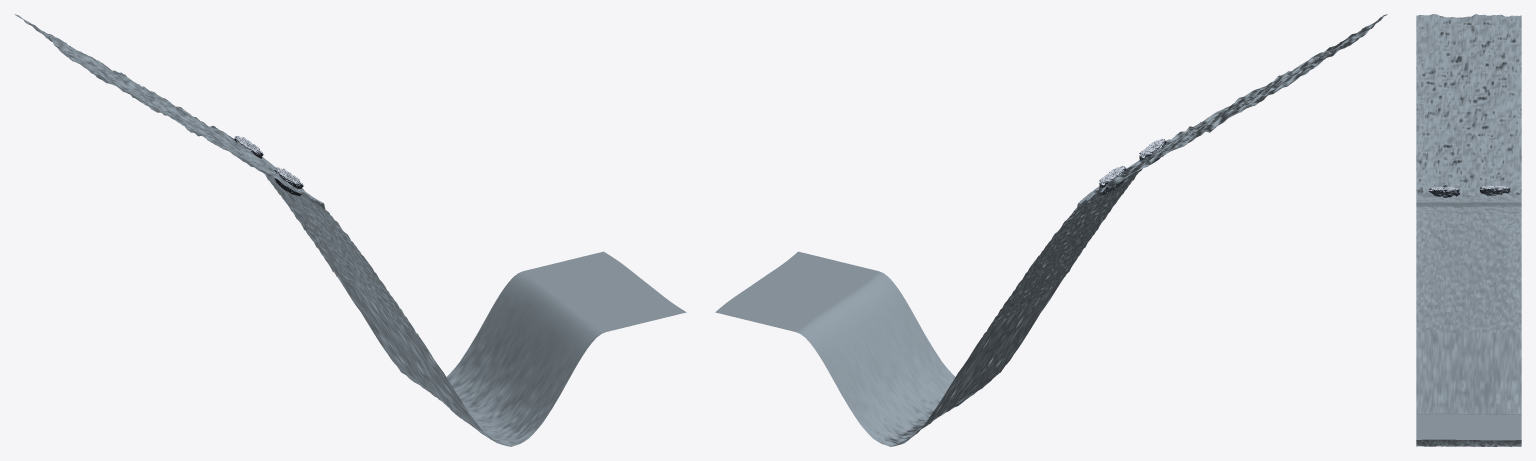
Rendered from walk-tile.glb.
3 renders of one model, left to right at view 1: azimuth 30°, elevation 25°; view 2: azimuth 150°, elevation 25°; view 3: azimuth 270°, elevation 25°, orthographic. The views are drawn at different scales.
Visible parts, largest first — view 1: Continuous_Walking_Tile; view 2: Continuous_Walking_Tile; view 3: Continuous_Walking_Tile, Generated_Path_Cliff_Repeat, Generated_Path_Cliff.
Part boxes in pixels (x1=…): Continuous_Walking_Tile: x1=14, y1=14, x2=686, y2=446; Continuous_Walking_Tile: x1=715, y1=14, x2=1387, y2=446; Continuous_Walking_Tile: x1=1416, y1=14, x2=1521, y2=446; Generated_Path_Cliff_Repeat: x1=1429, y1=187, x2=1459, y2=197; Generated_Path_Cliff: x1=1479, y1=186, x2=1510, y2=195.
Bounding box in the file's own units: 658 × 505 × 160.
Materials: 2 (1 with a texture image).
